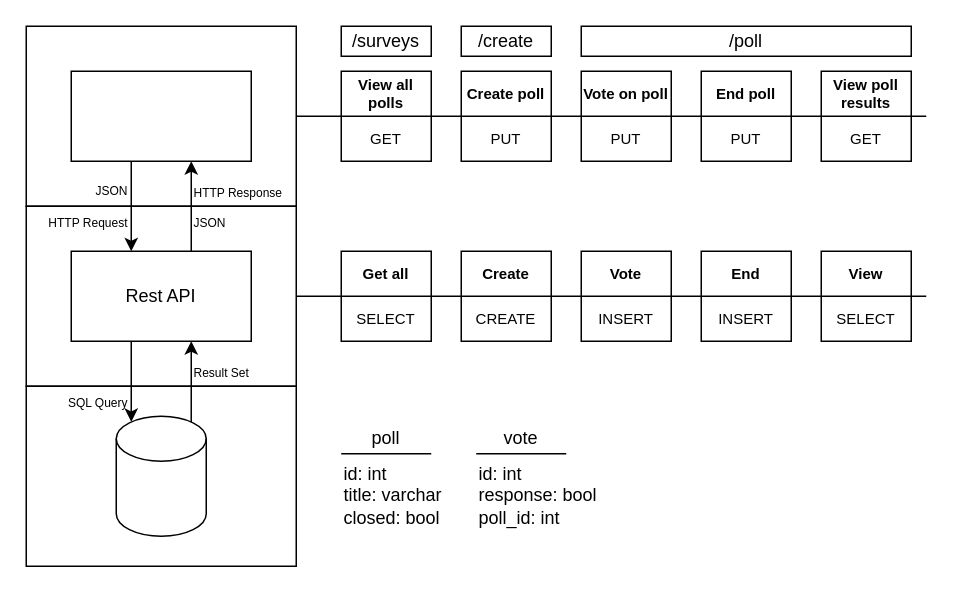
Image size: 954x593. Some labels were removed from this diagram. Each missing label, with the centre of its shape:
DB: pixel 160 475
Web App: pixel 160 115
